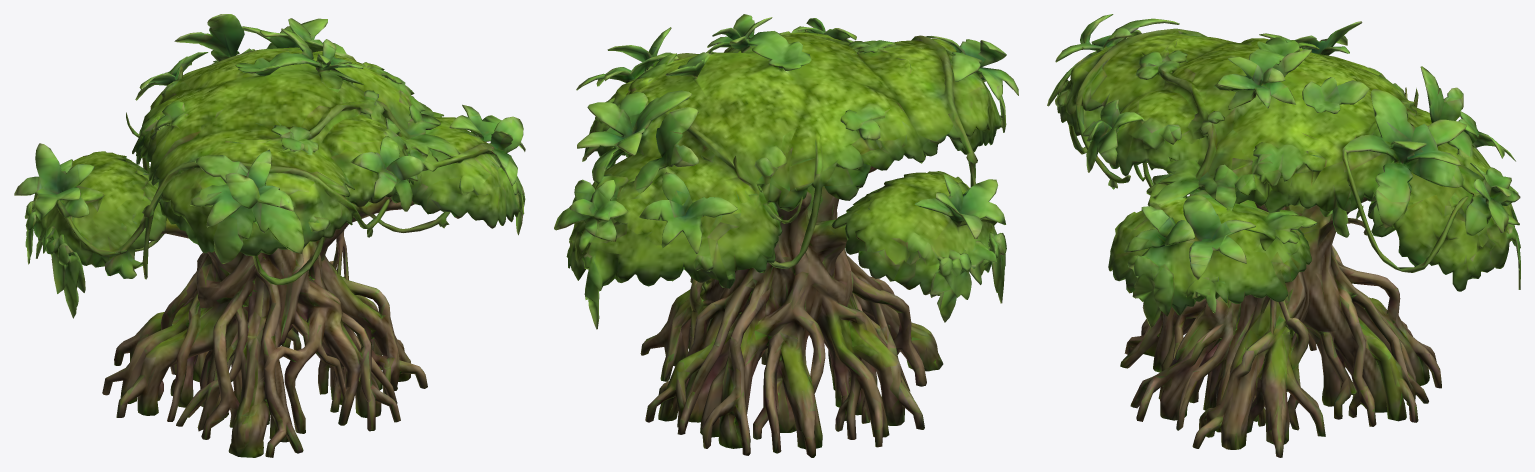
The model's file is tree3.glb.
3 renders of one model, left to right at view 1: azimuth 30°, elevation 25°; view 2: azimuth 150°, elevation 25°; view 3: azimuth 270°, elevation 25°, orthographic. The views are drawn at different scales.
Parts seen in each view (by area): view 1: Mesh_0; view 2: Mesh_0; view 3: Mesh_0.
Part boxes in pixels (x1=…): Mesh_0: x1=14, y1=14, x2=525, y2=457; Mesh_0: x1=554, y1=14, x2=1018, y2=457; Mesh_0: x1=1047, y1=14, x2=1520, y2=457.
Bounding box in the file's own units: 1.9 × 1.4 × 1.7.
Materials: 1 (1 with a texture image).
